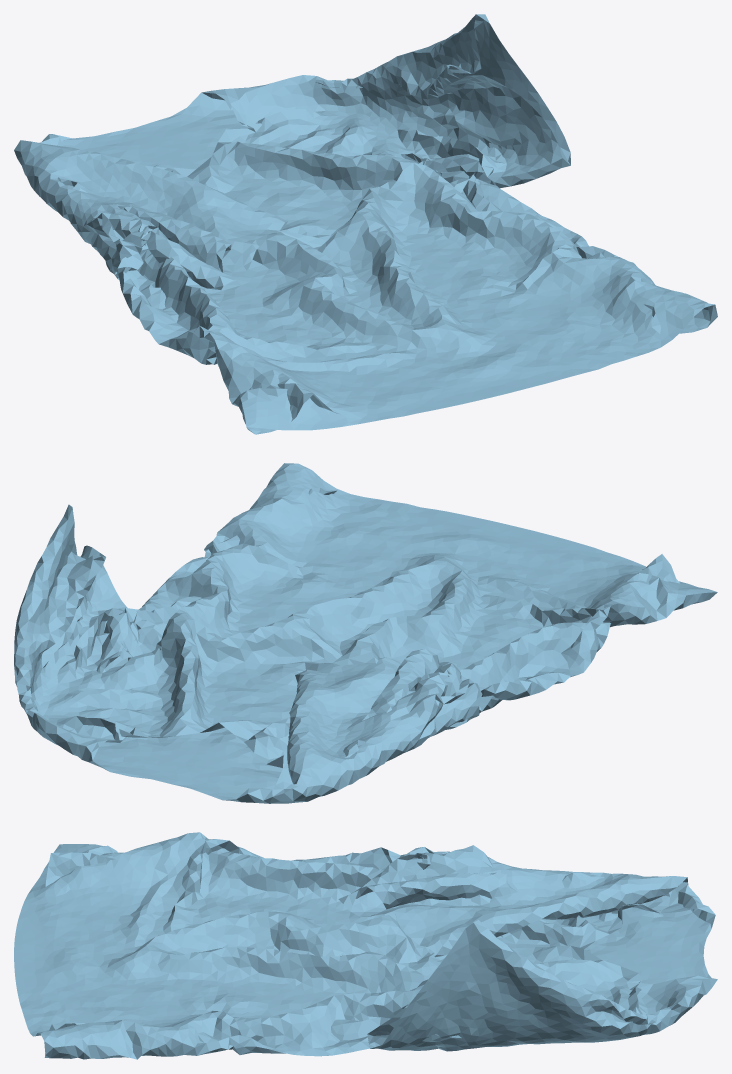
Rendered from frame_07.glb.
3 renders of one model, top to bottom at view 1: azimuth 30°, elevation 25°; view 2: azimuth 150°, elevation 25°; view 3: azimuth 270°, elevation 25°, orthographic. The views are drawn at different scales.
Visible parts, largest first — view 1: frame_07.obj; view 2: frame_07.obj; view 3: frame_07.obj.
Boxes of the visible parts, x1,y1,x2,y2 form: frame_07.obj: [14, 14, 717, 434]; frame_07.obj: [14, 463, 717, 803]; frame_07.obj: [14, 832, 717, 1059].
Bounding box in the file's own units: 1.3 × 0.3862 × 1.69.
